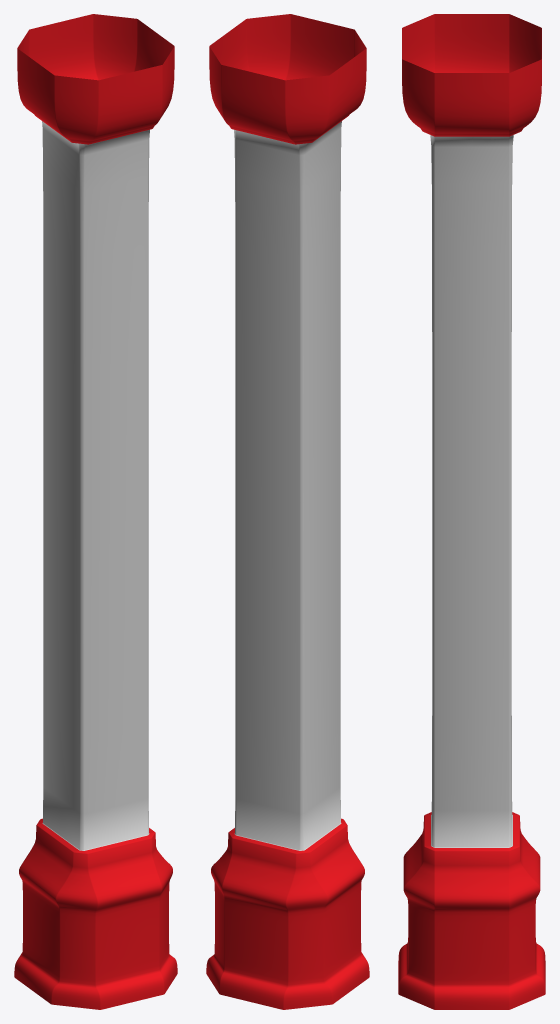
File: pillar.fbx
3 views of the same model, side by side, from view 1: azimuth 30°, elevation 25°; view 2: azimuth 150°, elevation 25°; view 3: azimuth 270°, elevation 25° (orthographic).
Visible parts, largest first — view 1: Plane; view 2: Plane; view 3: Plane.
Boxes of the visible parts, bbox=[...] form: Plane: bbox=[14, 14, 177, 1009]; Plane: bbox=[206, 14, 369, 1009]; Plane: bbox=[398, 14, 545, 1009].
Size of the model in its own units: 28.49 by 200 by 28.49.
